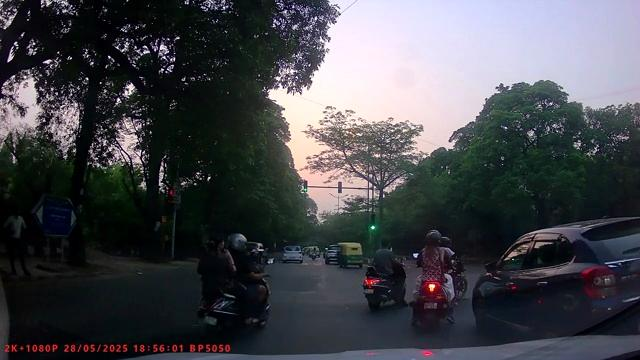motorcycle_without_helmet: (363, 238, 409, 313)
passenger_with_helmet: (412, 229, 458, 330)
passenger_without_helmet: (196, 229, 272, 342)
